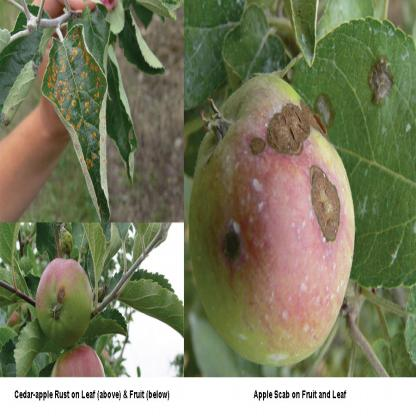apple rust leaf: (40, 34, 123, 222)
